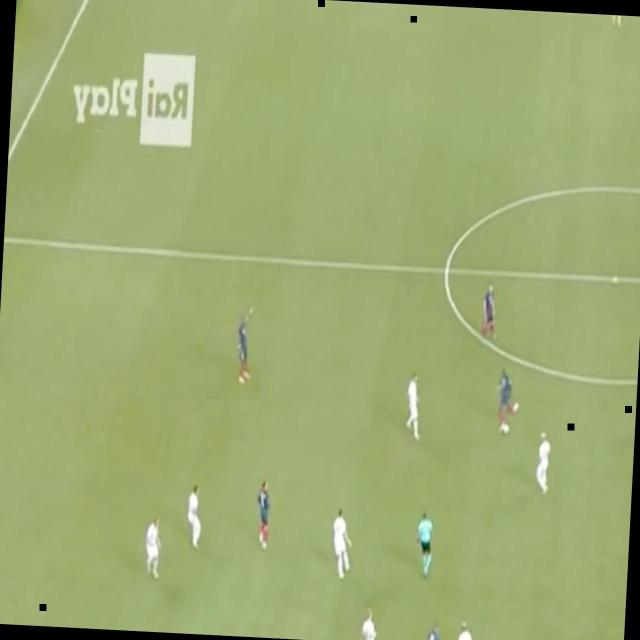ball: (502, 420, 511, 434)
player-white: (328, 506, 356, 581), (494, 362, 522, 436), (234, 299, 257, 387), (412, 506, 438, 581), (403, 369, 425, 442), (184, 481, 206, 553), (142, 513, 165, 581), (253, 478, 274, 552), (533, 428, 553, 498), (478, 282, 500, 344), (360, 604, 386, 640), (449, 617, 476, 640), (424, 618, 448, 640)
